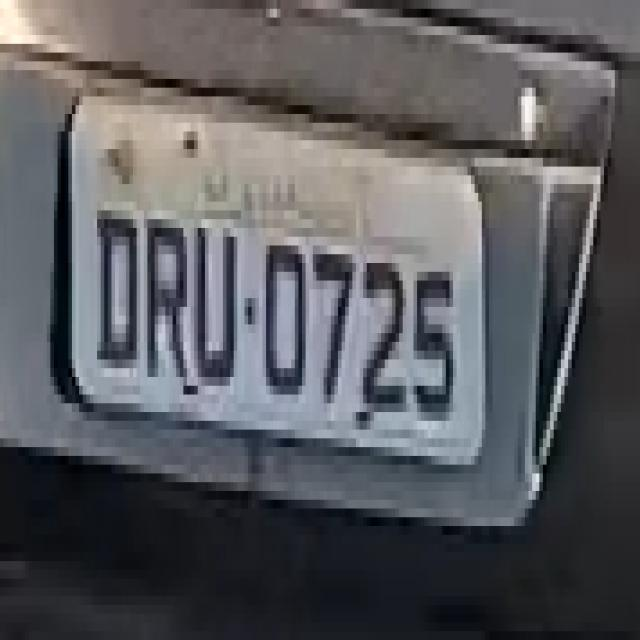Placa_mercosul_carro: (65, 95, 487, 467)
